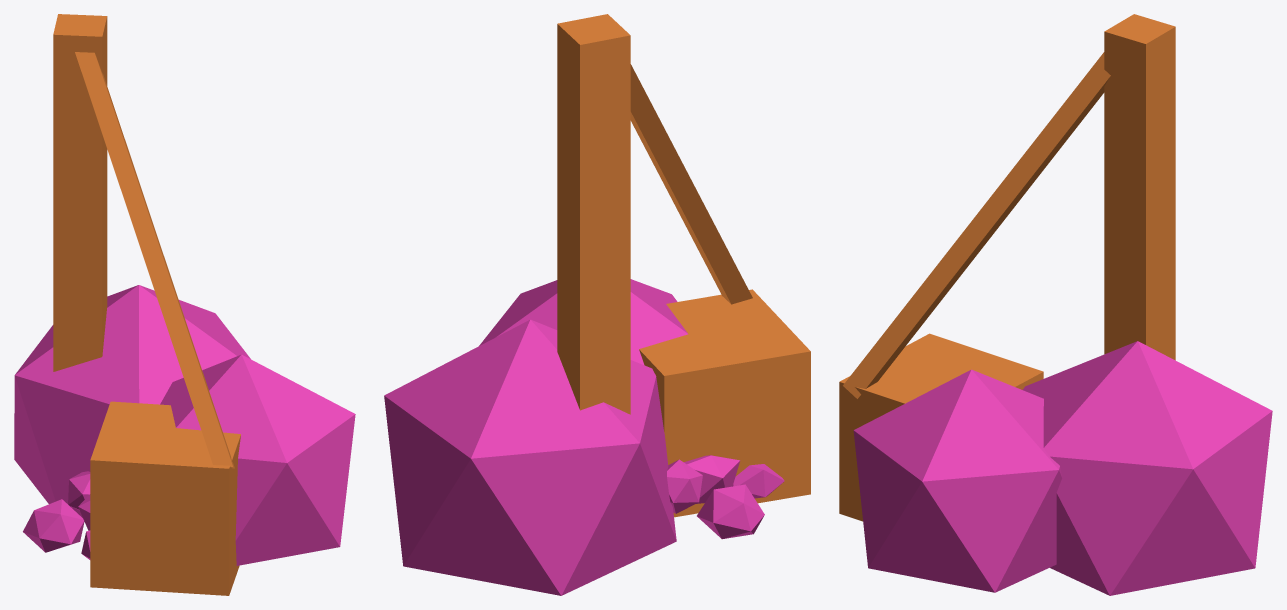
The model's file is mine.fbx.
3 renders of one model, left to right at view 1: azimuth 30°, elevation 25°; view 2: azimuth 150°, elevation 25°; view 3: azimuth 270°, elevation 25°, orthographic. The views are drawn at different scales.
Parts seen in each view (by area): view 1: Icosphere.001; view 2: Icosphere.001; view 3: Icosphere.001.
Part boxes in pixels (<box>): Icosphere.001: <box>14,14,355,595</box>; Icosphere.001: <box>384,14,810,595</box>; Icosphere.001: <box>839,14,1272,595</box>.
Size of the model in its own units: 1291 by 2095 by 1693.
